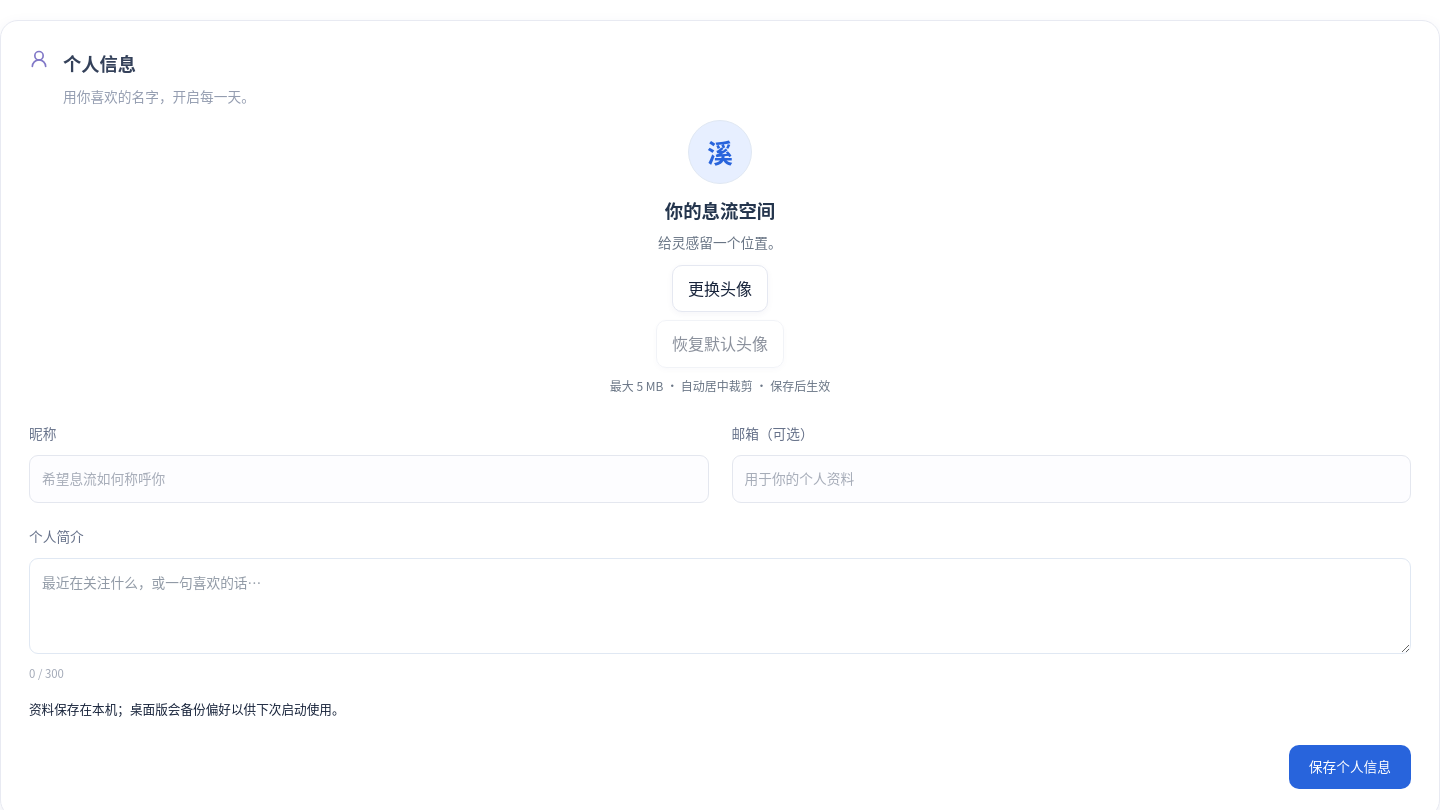
Test case: desktop profile waits for native persistence and reports a backup failure without claiming success
The image size is (1440, 810).
Type "溪流" into the field labelled "昵称". click: (369, 479)
box: [29,455,708,503]
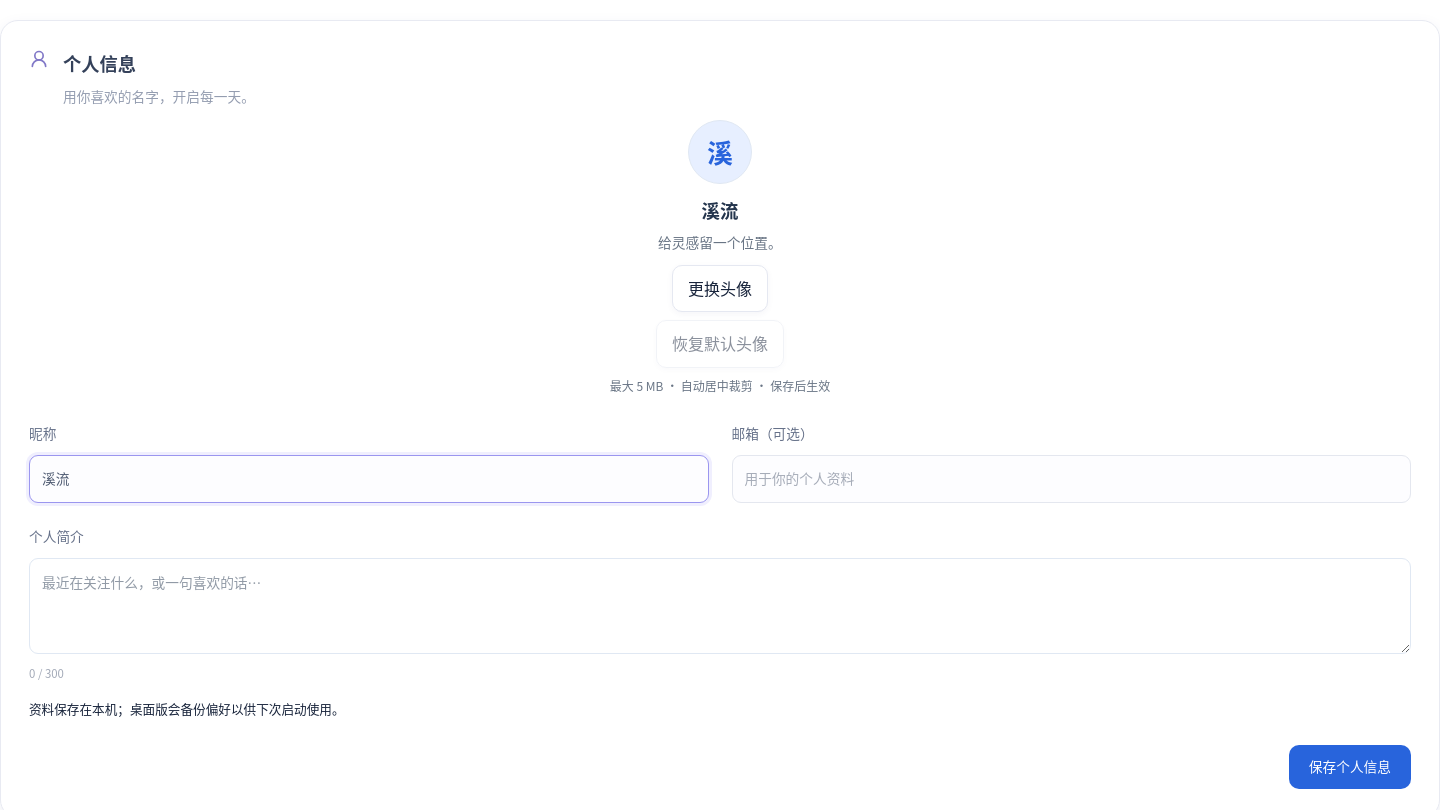
Click the button "保存个人信息". click: click(1350, 767)
box: [1289,745,1411,789]
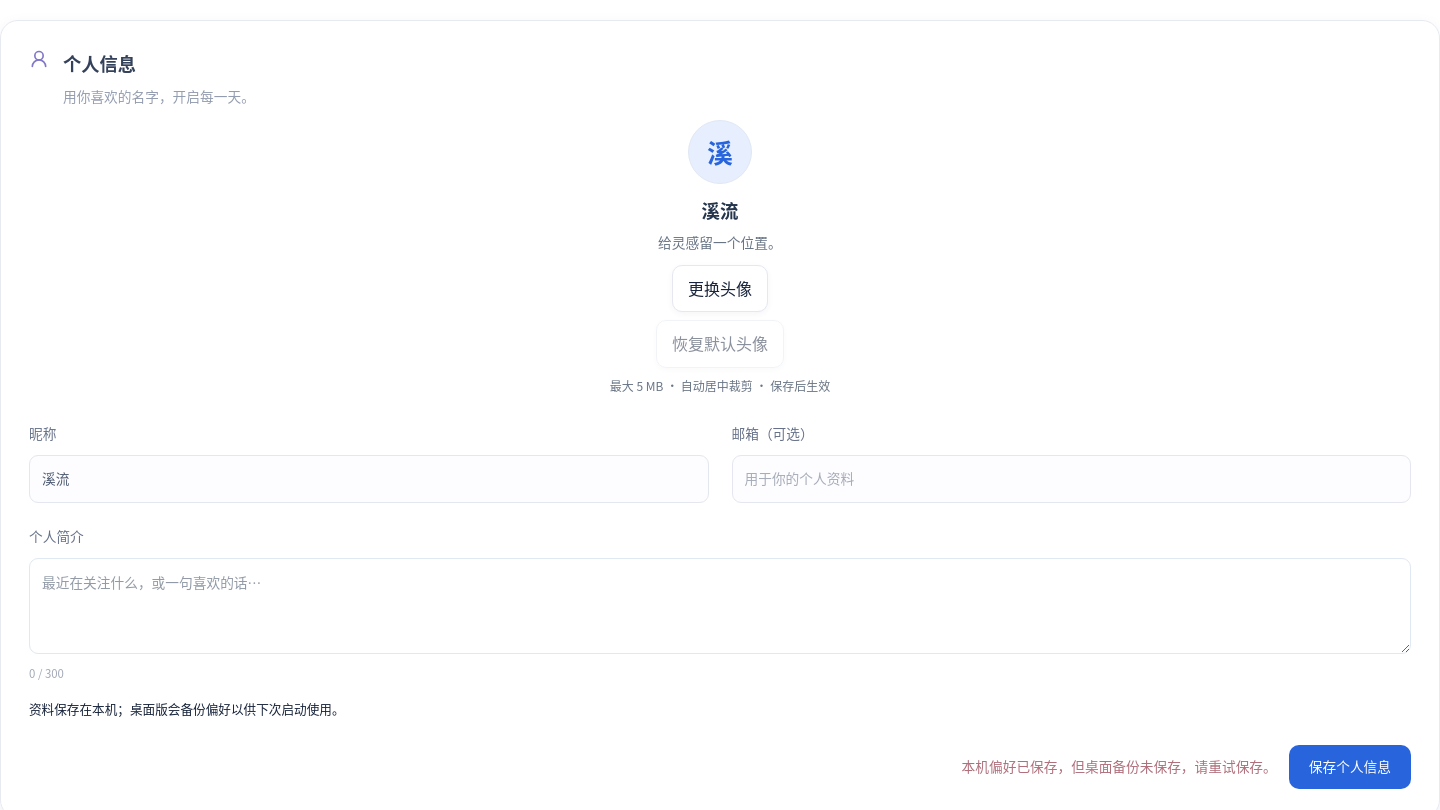
Check: the text "个人信息已保存" is not shown
Check: the message shows "桌面备份未保存", box [962,756,1277,776]
Click the button "保存个人信息". click: click(1350, 767)
box: [1289,745,1411,789]
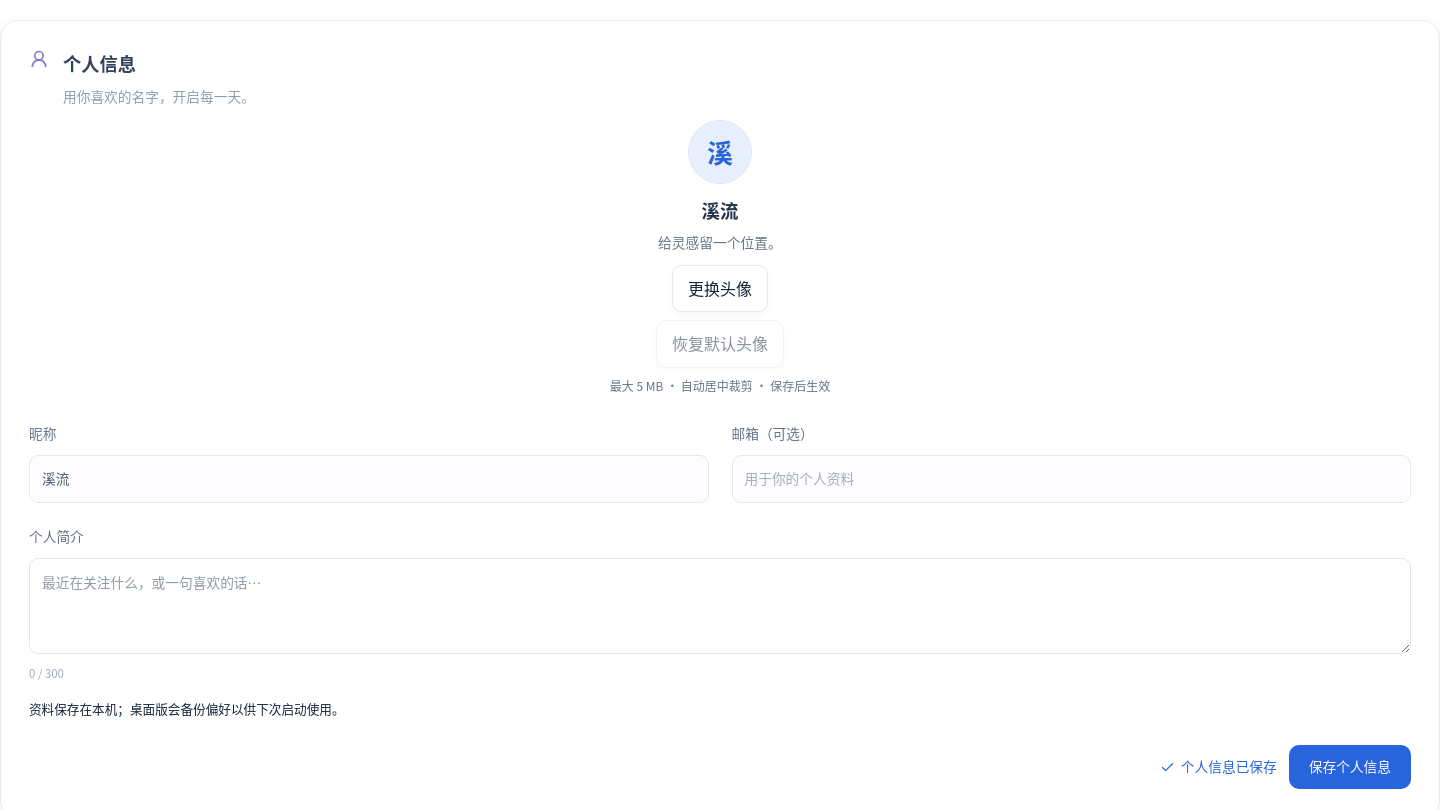
Check: the text "个人信息已保存" is shown, box [1160,756,1277,778]
